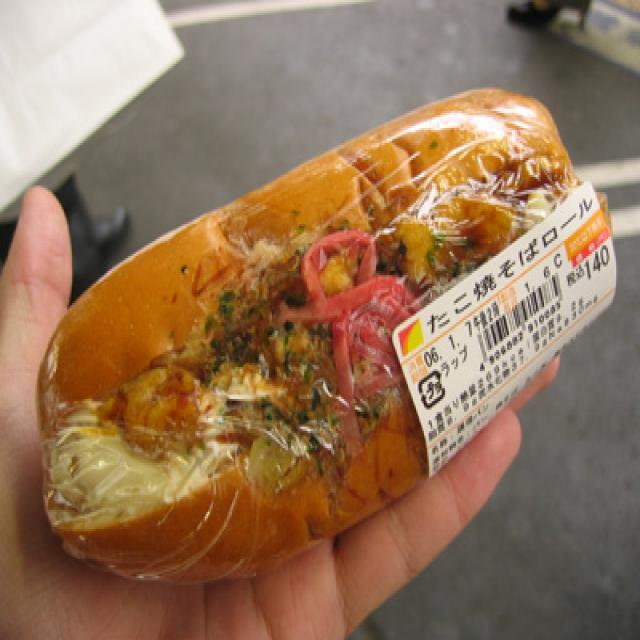三明治: (16, 70, 638, 612)
